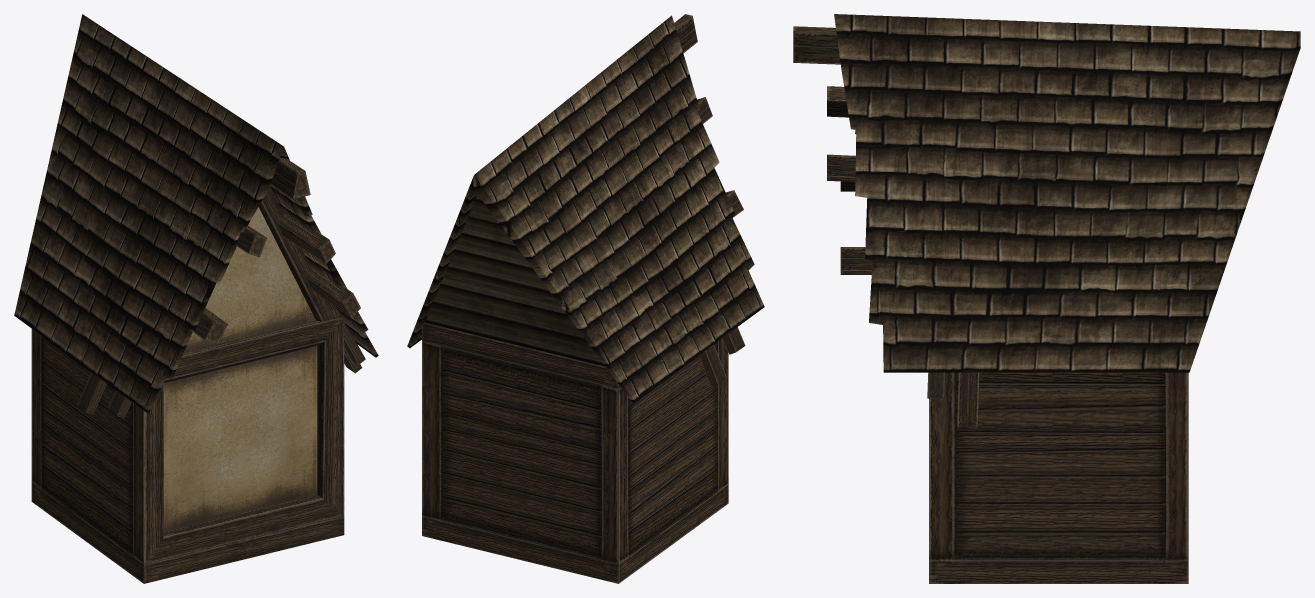
Rendered from Window_a02.fbx.
The picture shows the model from 3 angles, left to right: view 1: azimuth 30°, elevation 25°; view 2: azimuth 150°, elevation 25°; view 3: azimuth 270°, elevation 25°; orthographic projection. The views are drawn at different scales.
Visible parts, largest first — view 1: Window_a02; view 2: Window_a02; view 3: Window_a02.
Part boxes in pixels (box(x1,y1,x2,y2)): Window_a02: box(14, 14, 378, 583); Window_a02: box(407, 14, 764, 583); Window_a02: box(793, 14, 1300, 583).
Bounding box in the file's own units: 3.82 × 6.25 × 5.61.
